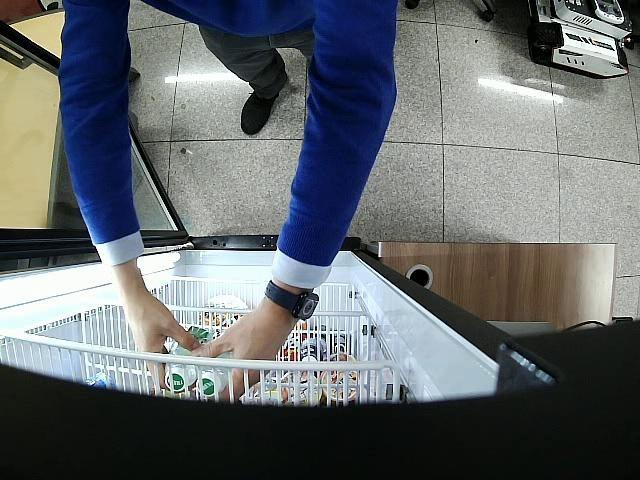18_trevi: (165, 326, 208, 392), (200, 350, 232, 396)
